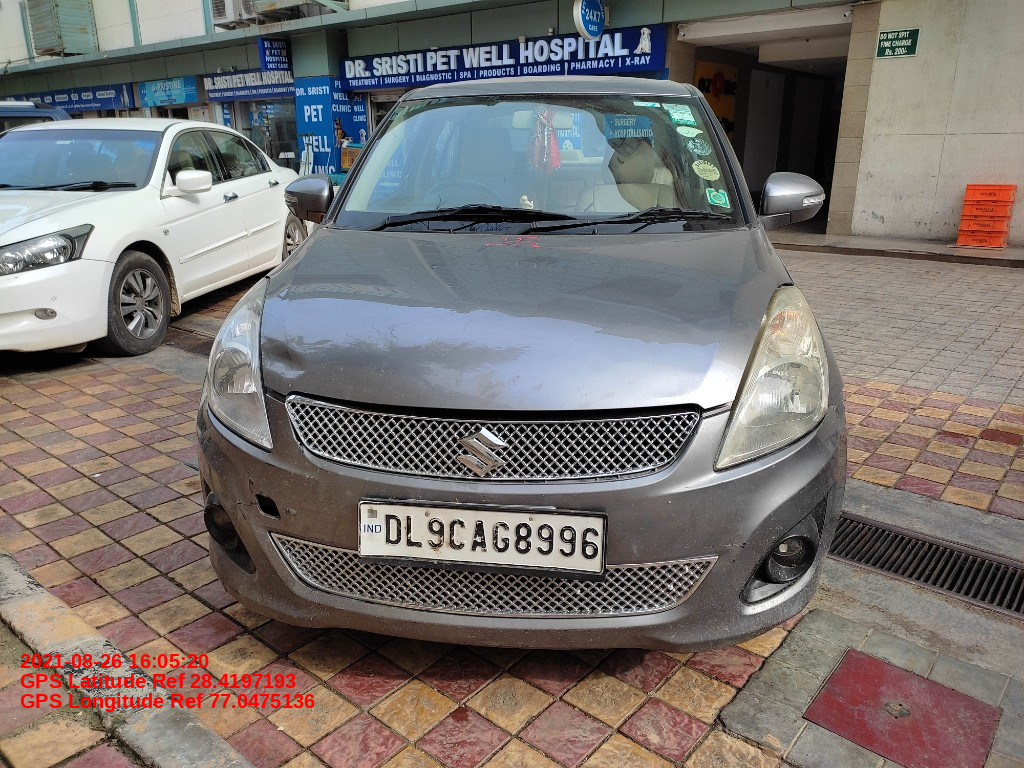Broken: (254, 491, 284, 519)
Pressed: (257, 332, 306, 383)
Scratched: (702, 536, 753, 566), (229, 483, 252, 516)
